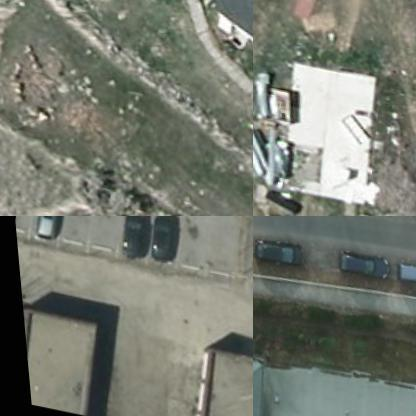car: (125, 216, 194, 268), (101, 216, 171, 267), (13, 216, 82, 249), (332, 246, 390, 280), (254, 233, 309, 266), (391, 255, 415, 288)
